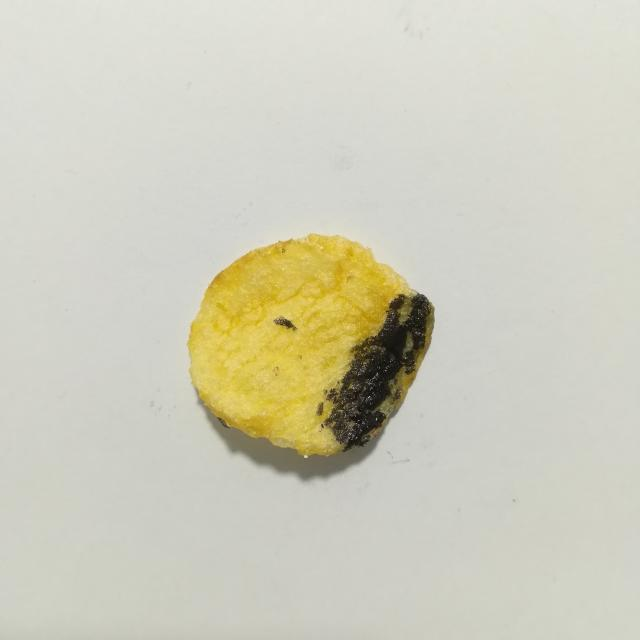chip: (188, 234, 434, 455)
damaged: (324, 293, 430, 448), (274, 316, 296, 331), (217, 417, 232, 428), (316, 402, 324, 415), (324, 389, 329, 395)
